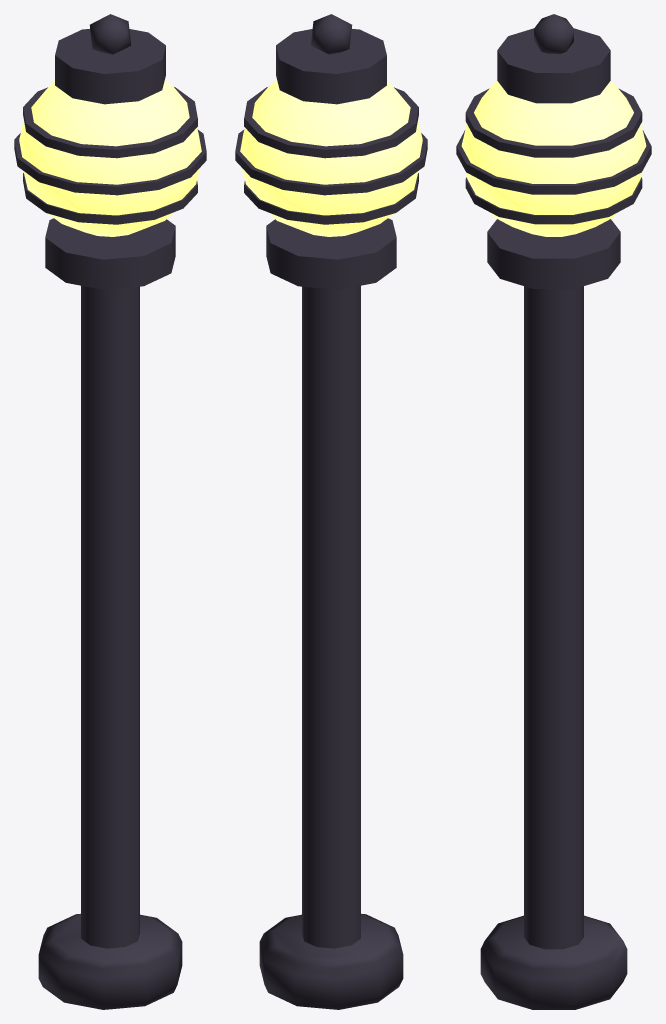
Rendered from v_lantern.glb.
3 renders of one model, left to right at view 1: azimuth 30°, elevation 25°; view 2: azimuth 150°, elevation 25°; view 3: azimuth 270°, elevation 25°, orthographic.
Parts seen in each view (by area): view 1: Lantern; view 2: Lantern; view 3: Lantern.
Part boxes in pixels (x1=…): Lantern: x1=14, y1=14, x2=206, y2=1009; Lantern: x1=235, y1=14, x2=427, y2=1009; Lantern: x1=456, y1=14, x2=651, y2=1009.
Size of the model in its own units: 0.2847 by 1.61 by 0.292.
